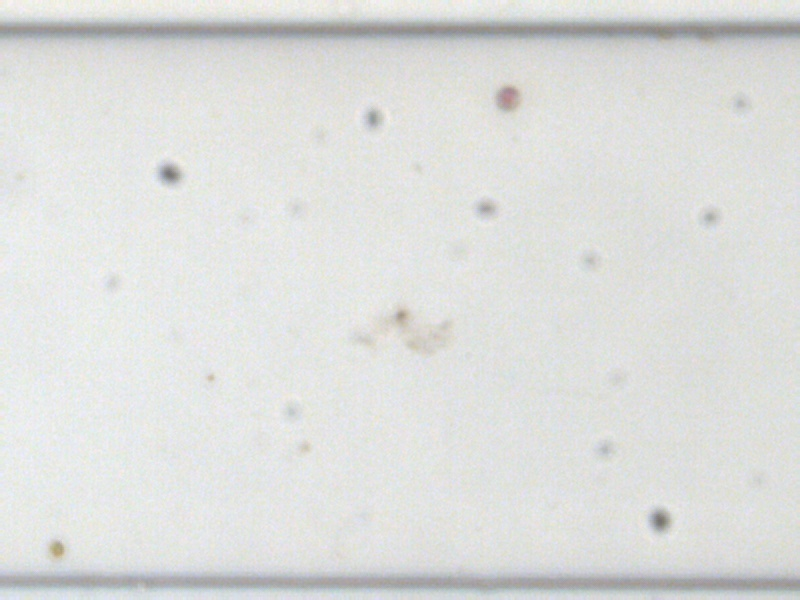Chlorella: (44, 539, 67, 558), (204, 370, 215, 382)
Porphyridium: (492, 82, 522, 110)
